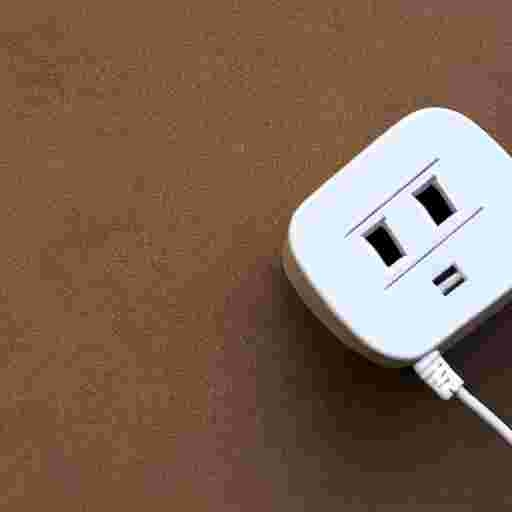power outlet: (285, 107, 511, 364)
